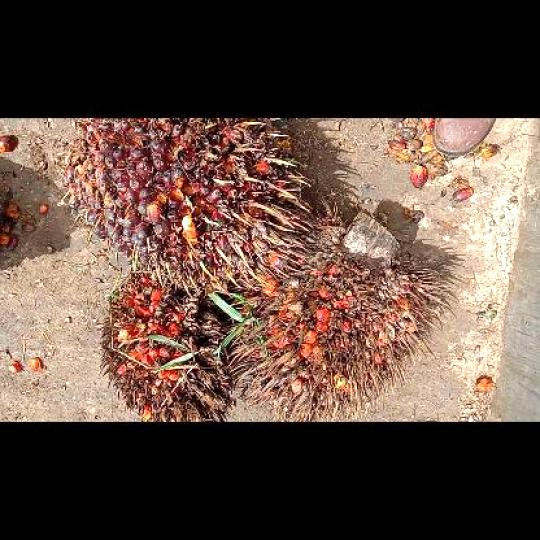masak: (63, 118, 316, 300)
terlalu masak: (224, 208, 448, 420), (96, 271, 234, 420)
